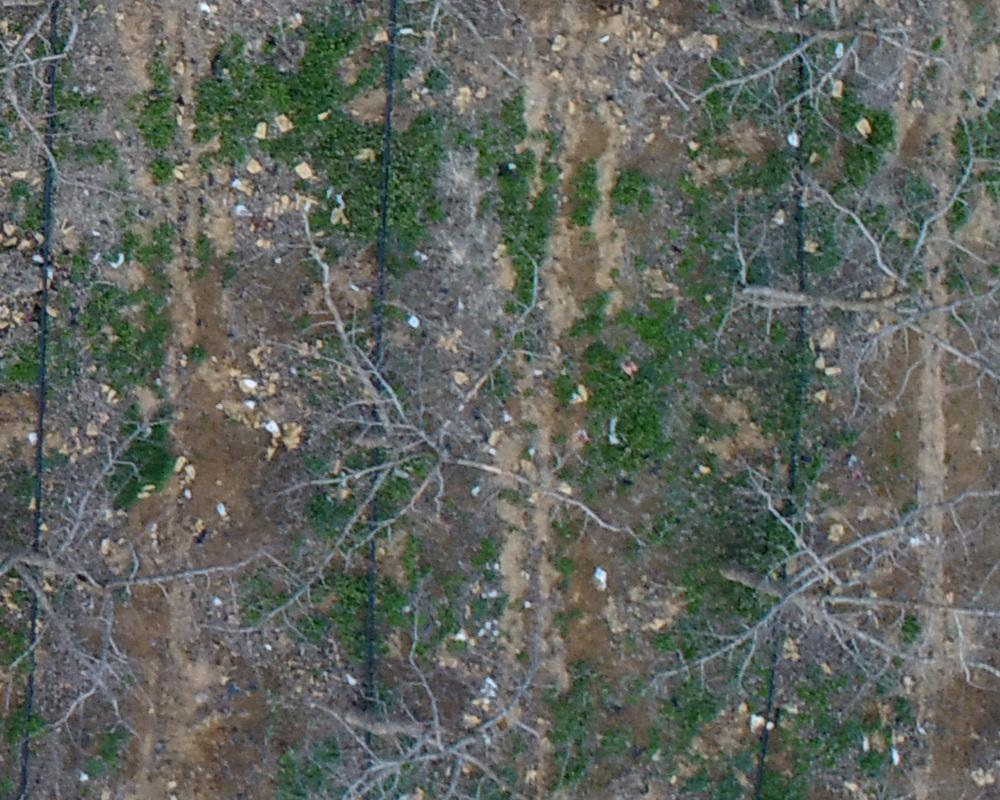apple: (248, 214, 629, 578), (646, 475, 990, 751), (700, 147, 990, 425), (251, 592, 613, 790), (10, 422, 239, 729), (623, 10, 949, 165)
